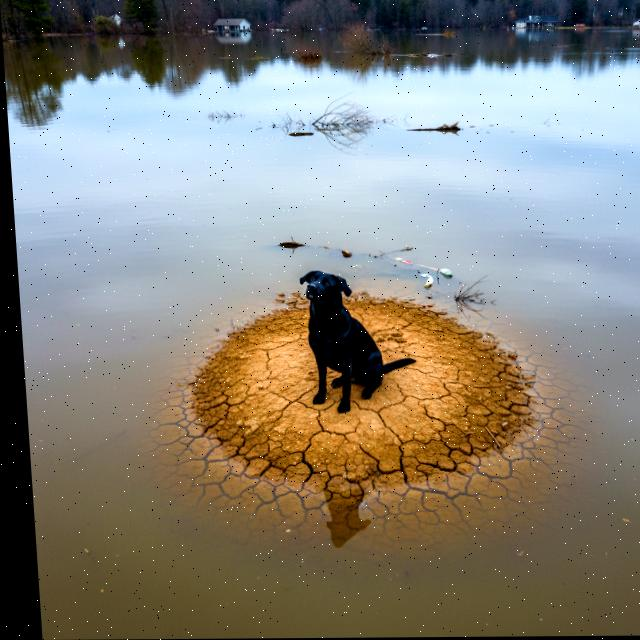dog: (283, 263, 431, 421)
